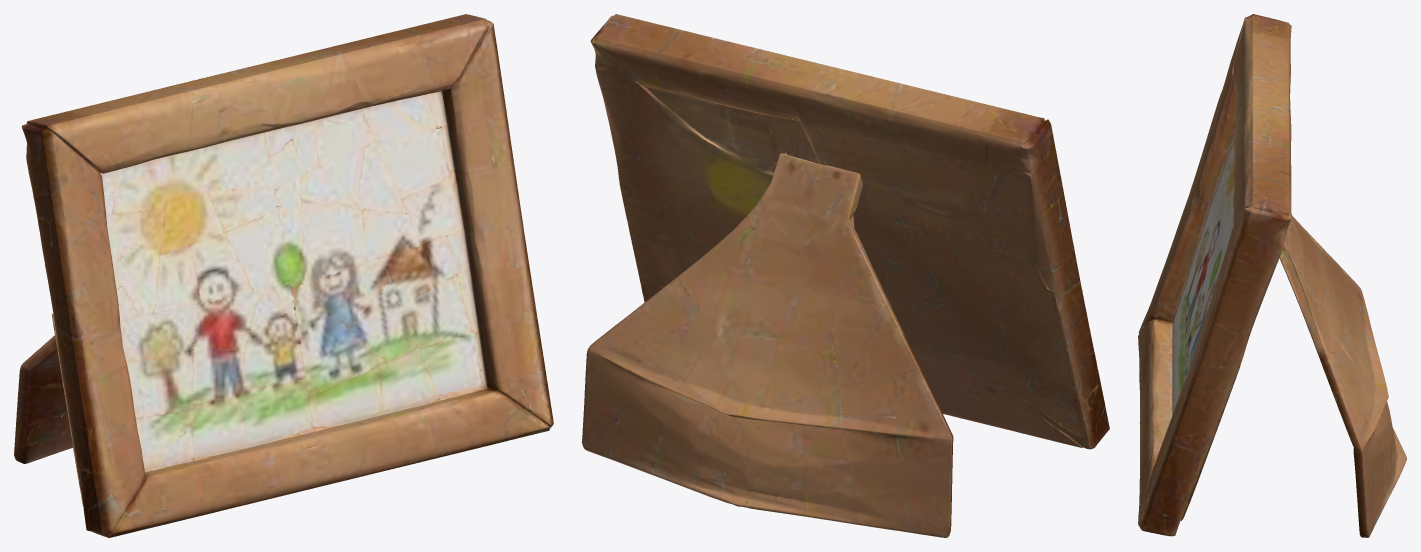
The model's file is Meshy_AI_Sunny_Family_on_the_H_0308134126_texture.glb.
3 renders of one model, left to right at view 1: azimuth 30°, elevation 25°; view 2: azimuth 150°, elevation 25°; view 3: azimuth 270°, elevation 25°, orthographic. The views are drawn at different scales.
Size of the model in its own units: 1.9 by 1.58 by 1.1.
Materials: 1 (1 with a texture image).
